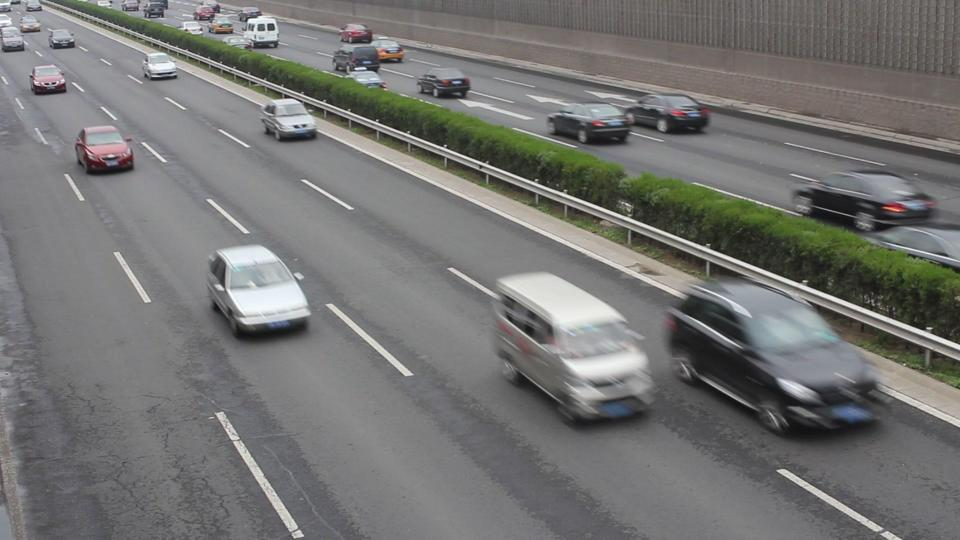car: (662, 277, 890, 437), (491, 271, 655, 427), (205, 244, 313, 337), (789, 168, 941, 232), (859, 224, 960, 272), (544, 103, 636, 145), (625, 94, 712, 134), (74, 125, 136, 174), (260, 98, 318, 141), (415, 67, 472, 98), (332, 46, 383, 73), (29, 64, 69, 95), (141, 52, 178, 80), (370, 39, 408, 64), (346, 71, 386, 90), (339, 23, 374, 44), (0, 26, 26, 52), (48, 29, 76, 49), (208, 15, 236, 34), (19, 15, 43, 33)
truck: (241, 16, 280, 48)
